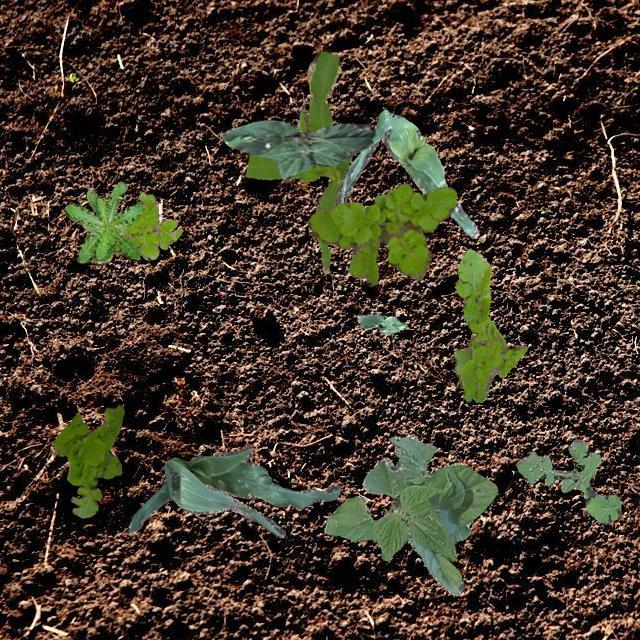crop: (324, 436, 496, 594), (244, 50, 350, 272), (128, 446, 340, 536), (334, 109, 478, 238), (220, 118, 374, 178), (356, 314, 406, 334)
weed: (306, 182, 456, 284), (452, 248, 526, 402), (516, 438, 620, 524), (54, 404, 124, 516), (62, 180, 142, 262), (90, 192, 182, 262)
